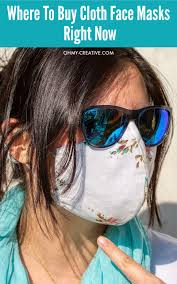cloth_mask: (49, 123, 159, 225)
